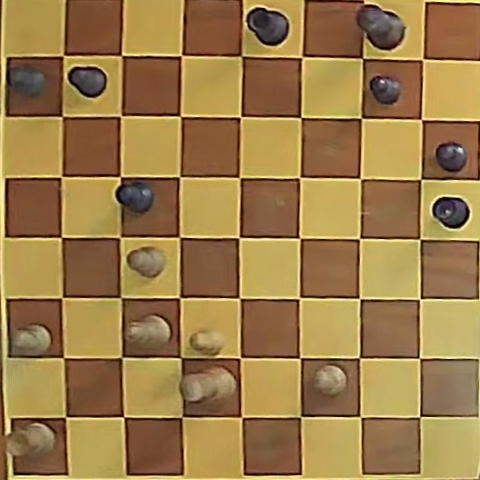black-king: (357, 5, 406, 50)
black-pawn: (68, 66, 107, 98), (8, 65, 46, 97), (116, 182, 154, 214), (370, 75, 402, 105), (435, 142, 467, 172)
black-rook: (246, 7, 289, 46), (432, 196, 469, 229)
white-bishop: (126, 315, 170, 347)
white-king: (181, 366, 236, 403)
white-pawn: (11, 324, 51, 356), (127, 247, 166, 278), (314, 364, 347, 396), (189, 329, 226, 355)
white-rook: (7, 422, 57, 458)
